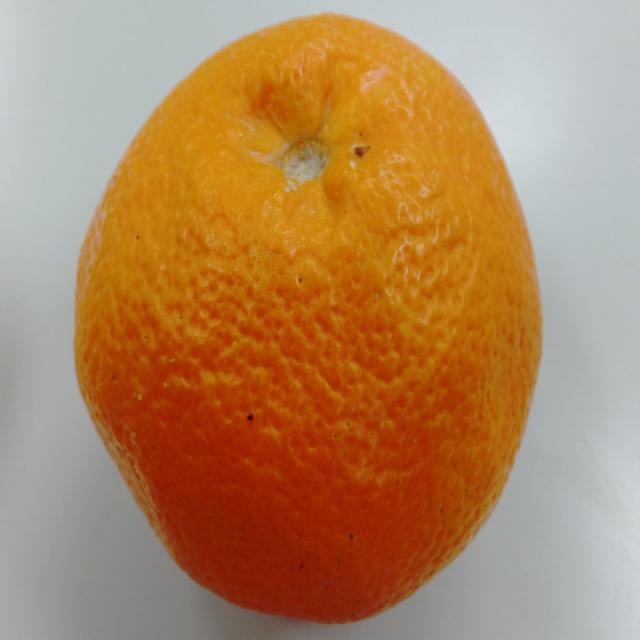Orange: (75, 9, 544, 630)
